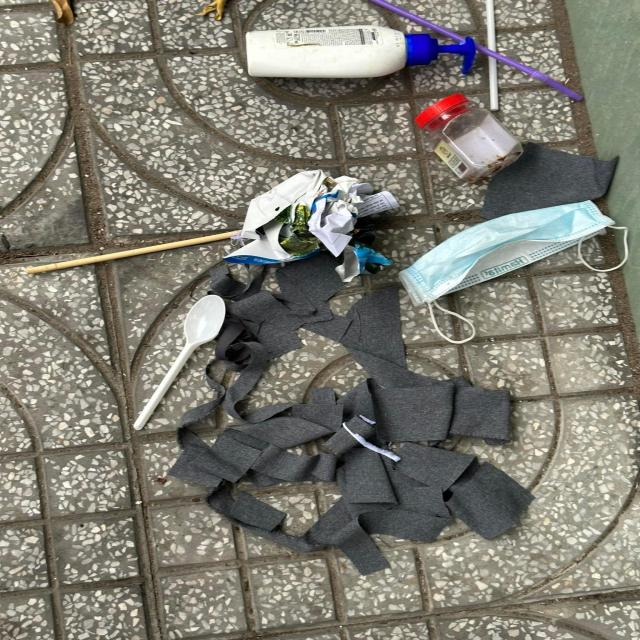bottle: (247, 26, 476, 78)
clothes: (166, 250, 536, 576), (480, 141, 620, 220)
drinking straw: (368, 0, 584, 104), (485, 0, 501, 110)
mask: (400, 200, 628, 344)
paper: (223, 170, 398, 283)
plastic holder: (414, 92, 522, 181)
plastic utensil: (132, 294, 226, 432)
